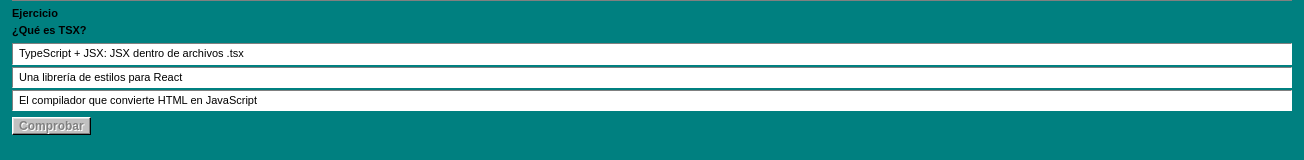
Test: LessonQuiz › cambiar de opción tras comprobar permite reintentar
Click the button "Una librería de estilos para React". click: (101, 77)
box: [12, 67, 1292, 88]
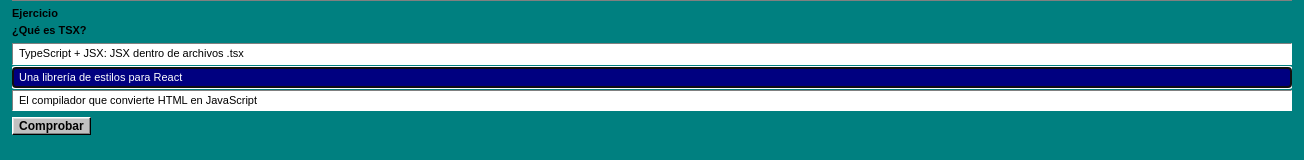
Click the button "Comprobar". click: (51, 126)
box: [12, 117, 91, 135]
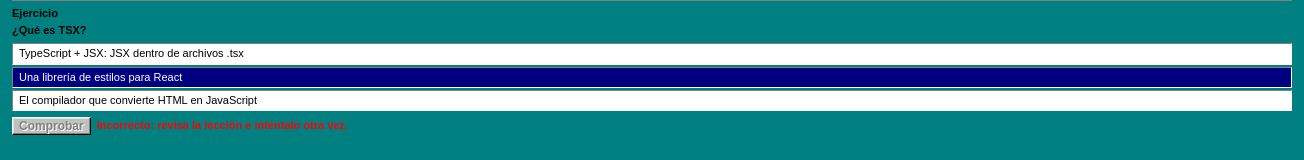
Now the text "Incorrecto: revisa la lección e inténtalo otra vez." is shown, box [97, 119, 348, 132]
Click the button "TypeScript + JSX: JSX dentro de archivos .tsx". click: (131, 53)
box: [12, 43, 1292, 65]
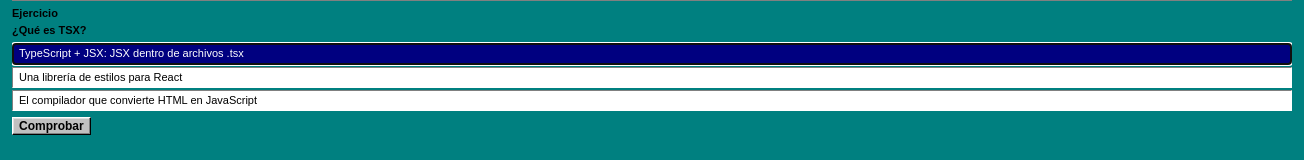
Click the button "Comprobar". click: (51, 126)
box: [12, 117, 91, 135]
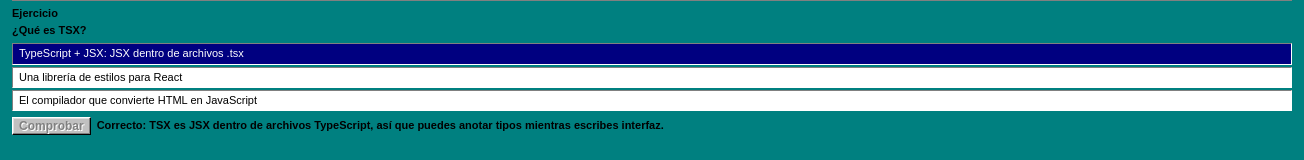
Expected: the text "Incorrecto" is not shown
Now the text "Correcto" is shown, box [97, 119, 664, 131]
